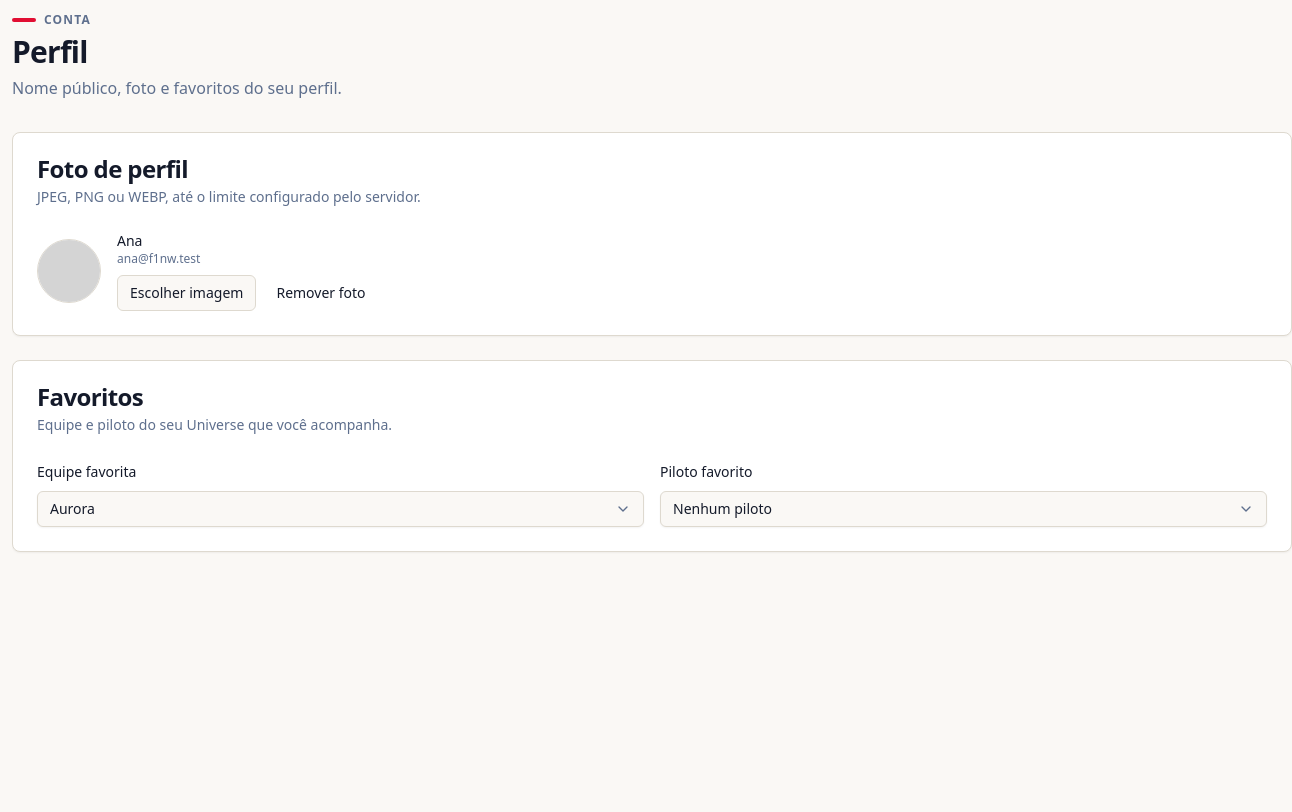
ProfilePage › atualiza a equipe favorita e invalida o perfil
The image size is (1292, 812).
Expected: the text "Ana" is shown, [117,231,142,250]
Click the button with aria-label "Equipe favorita". click: (72, 508)
box: [37,491,644,527]
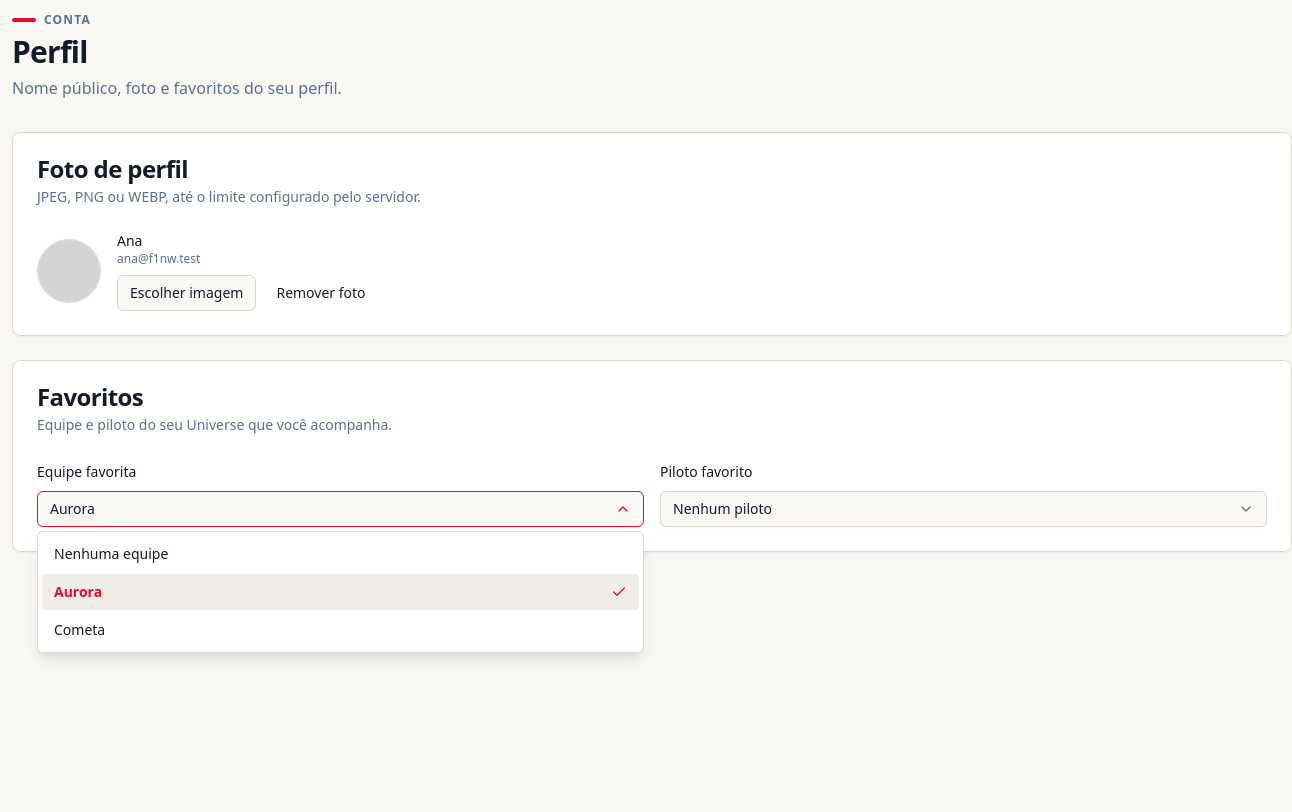
Click the option "Cometa". click: (80, 630)
box: [54,620,105,639]
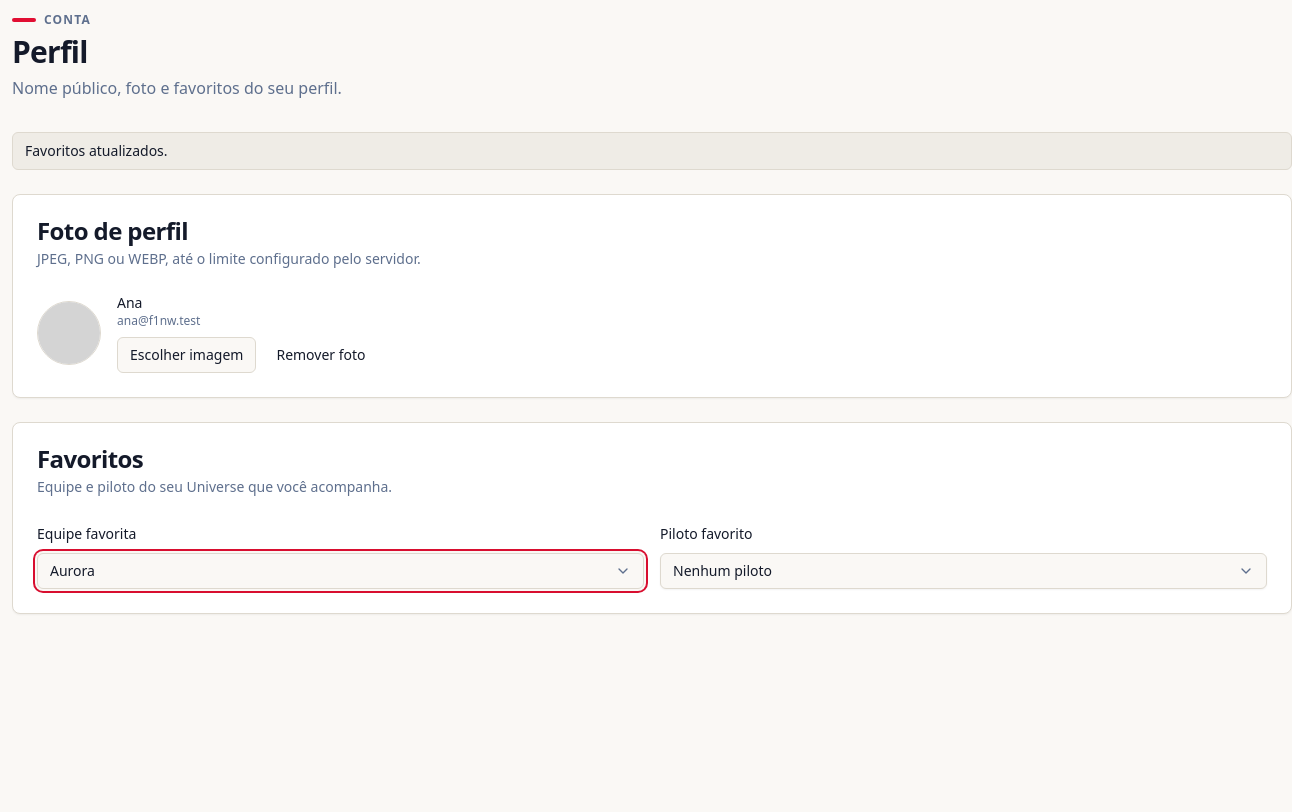
Expected: the message "Favoritos atualizados." is shown, [12,132,1291,170]
